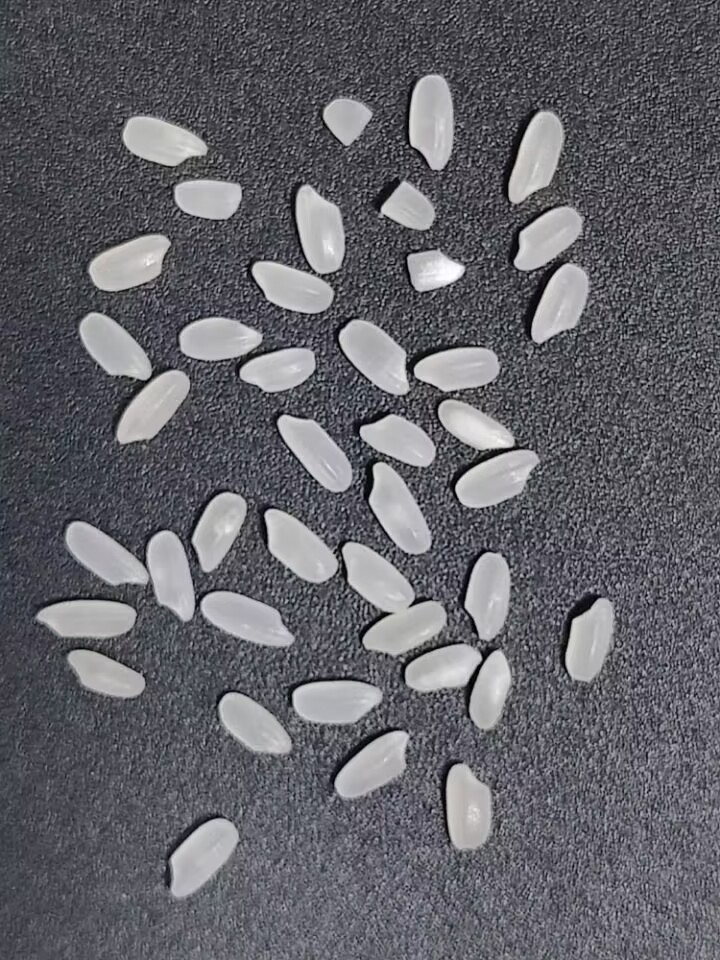broken: (379, 175, 445, 234), (315, 92, 374, 148), (407, 250, 465, 292)
rice: (63, 519, 155, 592), (259, 505, 342, 585), (166, 815, 242, 901), (275, 412, 354, 494), (400, 70, 461, 173), (336, 317, 411, 399), (76, 310, 153, 388), (339, 539, 417, 616), (441, 757, 500, 858), (368, 462, 432, 555), (198, 588, 297, 648), (331, 728, 413, 800), (114, 369, 191, 444), (213, 687, 293, 758), (292, 180, 349, 277), (115, 110, 212, 166), (507, 110, 564, 205), (88, 229, 172, 293), (247, 257, 338, 316), (142, 529, 197, 626), (463, 545, 517, 643), (188, 488, 248, 575), (30, 594, 142, 640), (455, 449, 539, 508), (290, 675, 384, 727), (530, 263, 589, 345), (65, 648, 153, 701), (402, 641, 485, 697), (409, 344, 505, 392), (363, 601, 446, 655), (513, 206, 582, 270), (238, 342, 319, 396), (175, 312, 265, 360), (565, 597, 613, 682), (359, 414, 435, 467), (438, 399, 515, 450), (469, 649, 510, 729), (174, 180, 241, 219)
